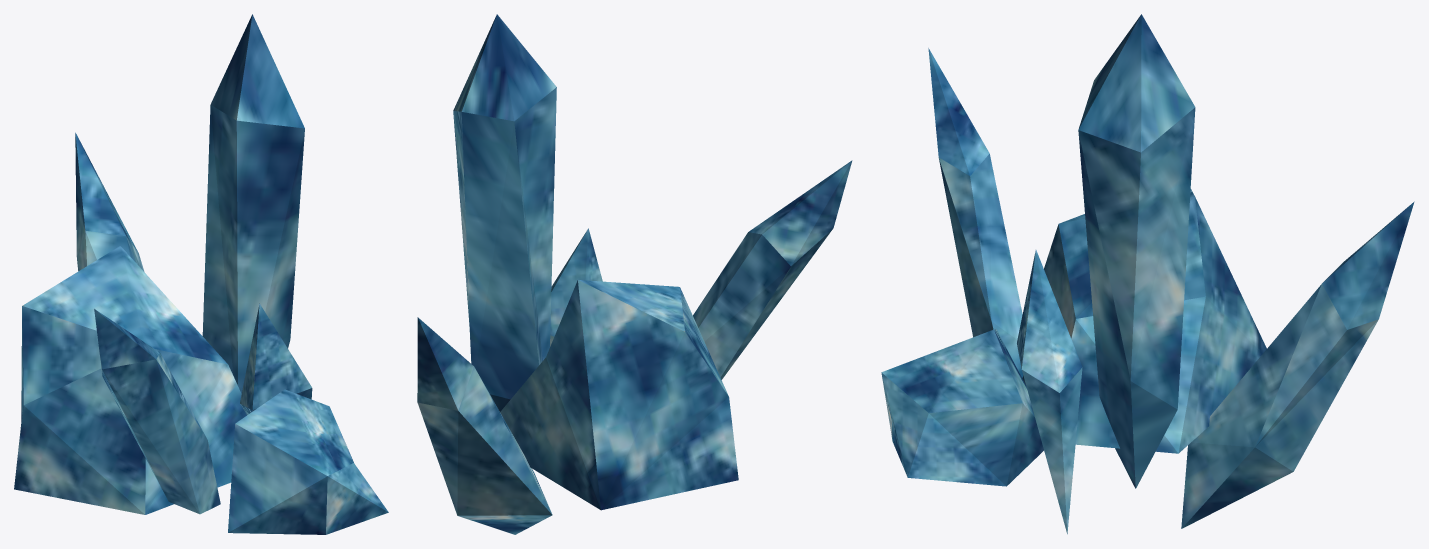
3 views of the same model, side by side, from view 1: azimuth 30°, elevation 25°; view 2: azimuth 150°, elevation 25°; view 3: azimuth 270°, elevation 25° (orthographic). The views are drawn at different scales.
Visible parts, largest first — view 1: a80; view 2: a80; view 3: a80.
Part boxes in pixels (<box>): a80: <box>14,14,388,534</box>; a80: <box>417,14,852,534</box>; a80: <box>881,14,1414,534</box>.
Bounding box in the file's own units: 585 × 929 × 840.
